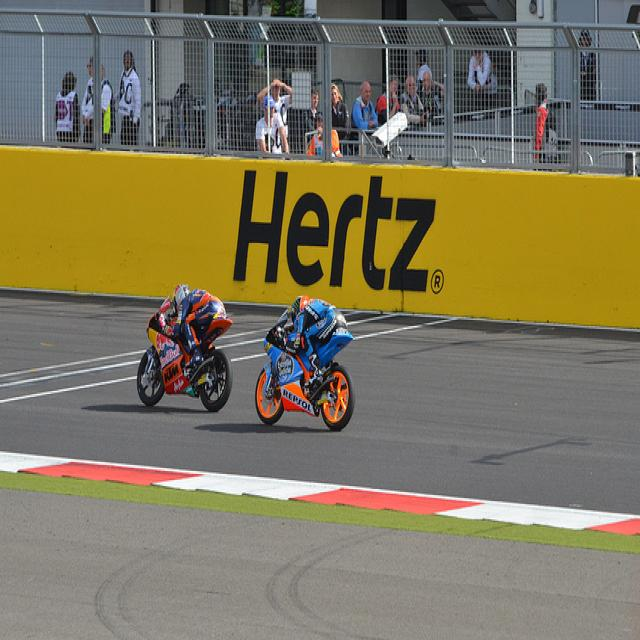motor: (255, 312, 357, 431), (136, 297, 234, 411)
